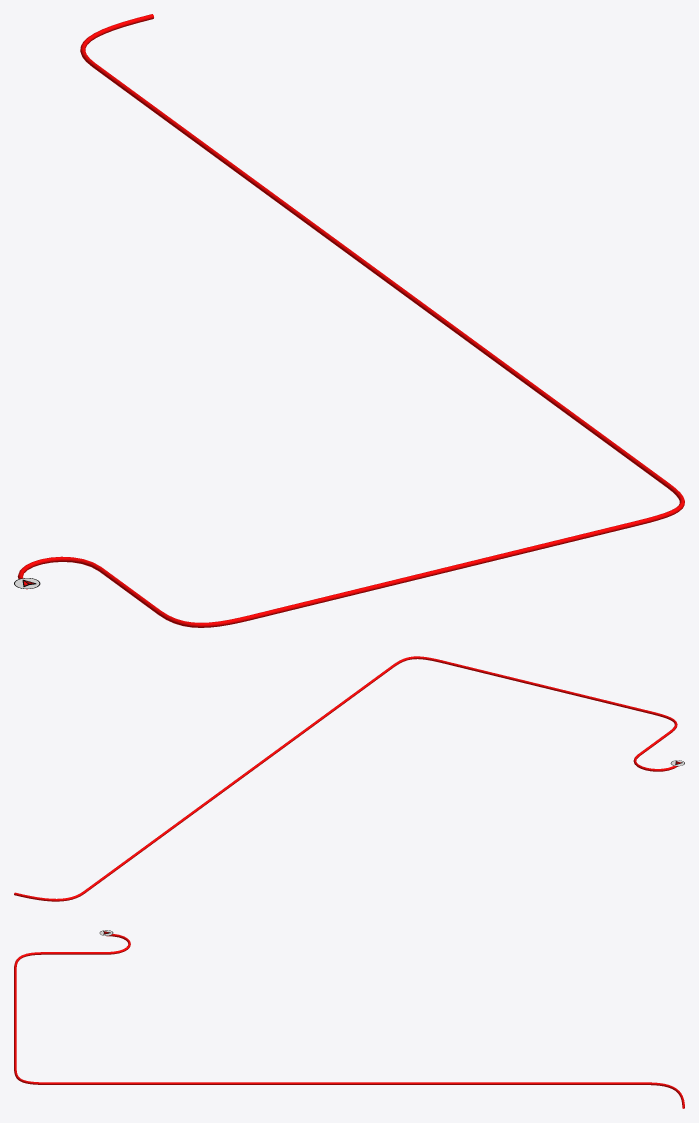
File: route_93983a75-e9ae-4b84-91e9-114cec28c55e_en_target.glb
3 renders of one model, top to bottom at view 1: azimuth 30°, elevation 25°; view 2: azimuth 150°, elevation 25°; view 3: azimuth 270°, elevation 25°, orthographic. The views are drawn at different scales.
Parts seen in each view (by area): view 1: Station 12.001; view 2: Station 12.001; view 3: Station 12.001.
Boxes of the visible parts, box(x1,y1,x2,y2) form: Station 12.001: box(17, 14, 684, 627); Station 12.001: box(14, 656, 677, 901); Station 12.001: box(14, 934, 684, 1108).
Bounding box in the file's own units: 12.31 × 0.1086 × 19.86.
